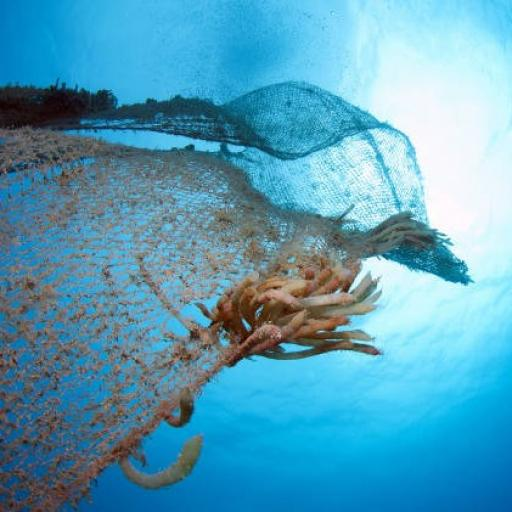net: (0, 80, 477, 511)
